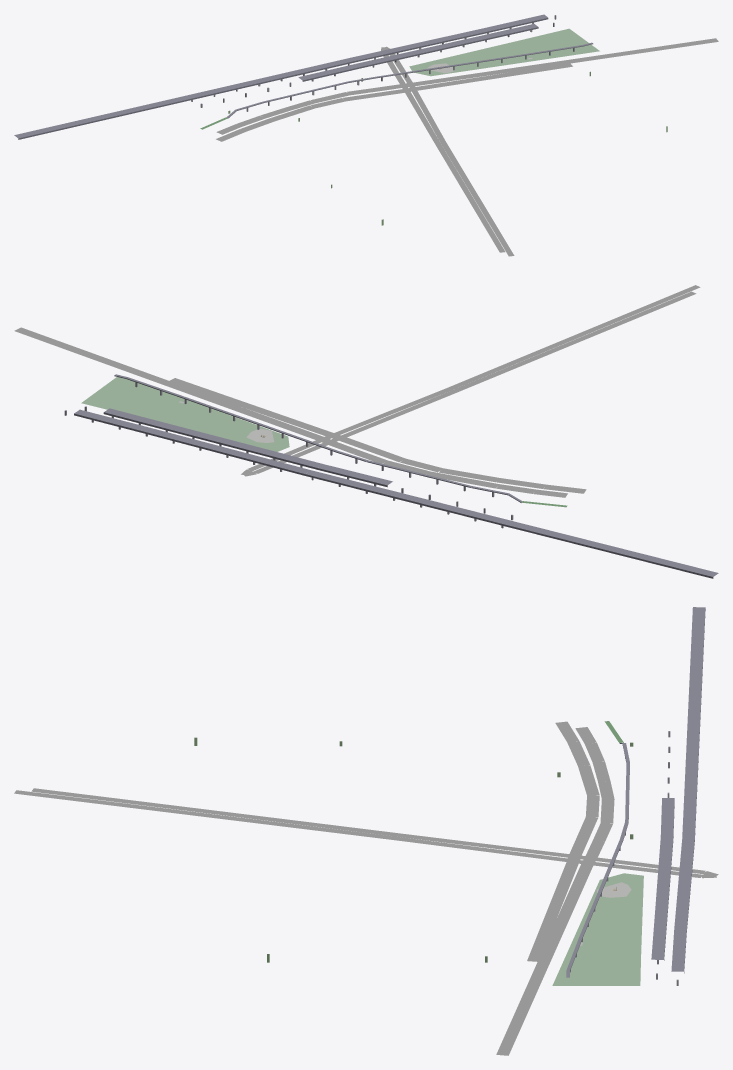
3 renders of one model, top to bottom at view 1: azimuth 30°, elevation 25°; view 2: azimuth 150°, elevation 25°; view 3: azimuth 270°, elevation 25°, orthographic. The views are drawn at different scales.
Bounding box in the file's own units: 858 × 9.63 × 582.
